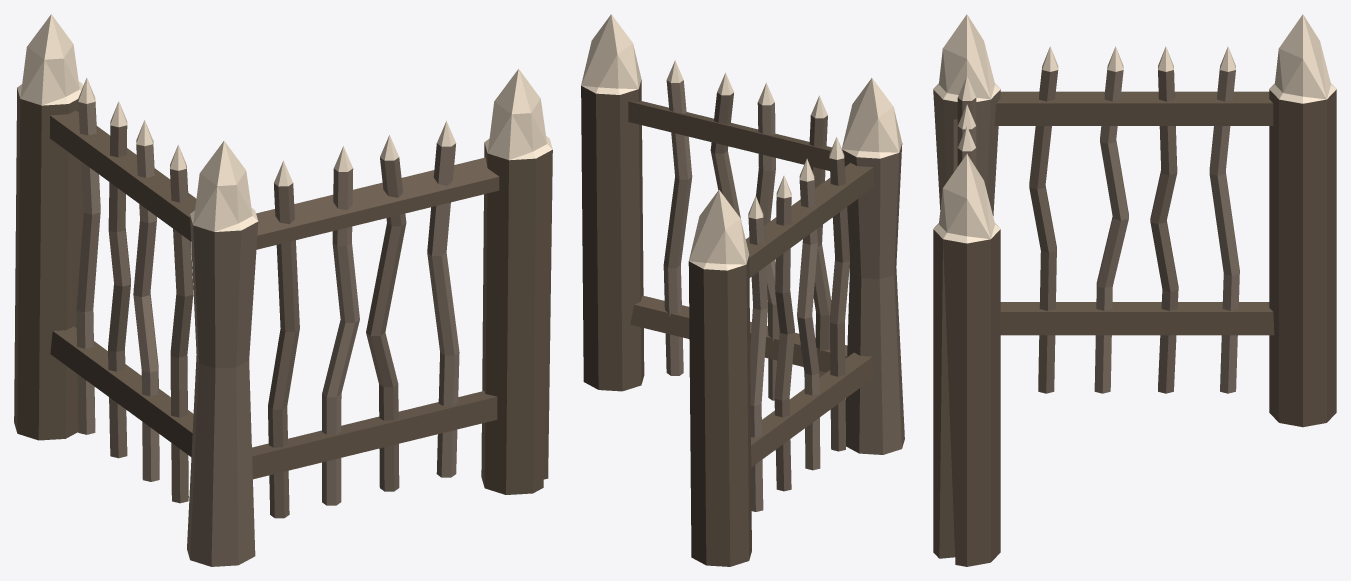
The model's file is _FENSE_CORNER_01.fbx.
The picture shows the model from 3 angles, left to right: view 1: azimuth 30°, elevation 25°; view 2: azimuth 150°, elevation 25°; view 3: azimuth 270°, elevation 25°; orthographic projection. The views are drawn at different scales.
Parts seen in each view (by area): view 1: FENSE_CORNER_01; view 2: FENSE_CORNER_01; view 3: FENSE_CORNER_01.
Part boxes in pixels (x1,y1,x2,y2): FENSE_CORNER_01: (14, 14, 552, 566); FENSE_CORNER_01: (581, 14, 904, 566); FENSE_CORNER_01: (933, 14, 1336, 566).
Size of the model in its own units: 200 by 219 by 200.
